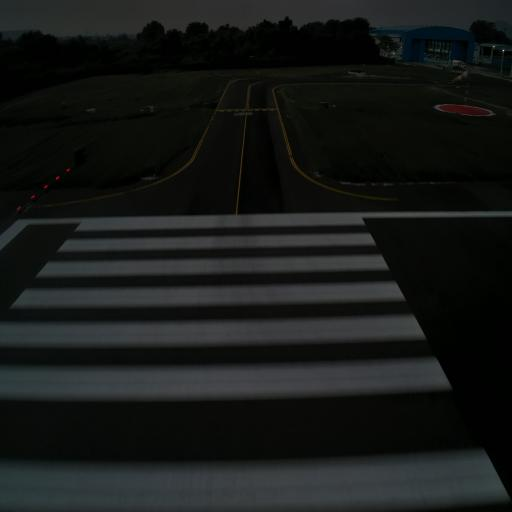on: (15, 200, 22, 214), (42, 181, 48, 193), (54, 174, 60, 186), (65, 164, 71, 175), (29, 192, 36, 201)
